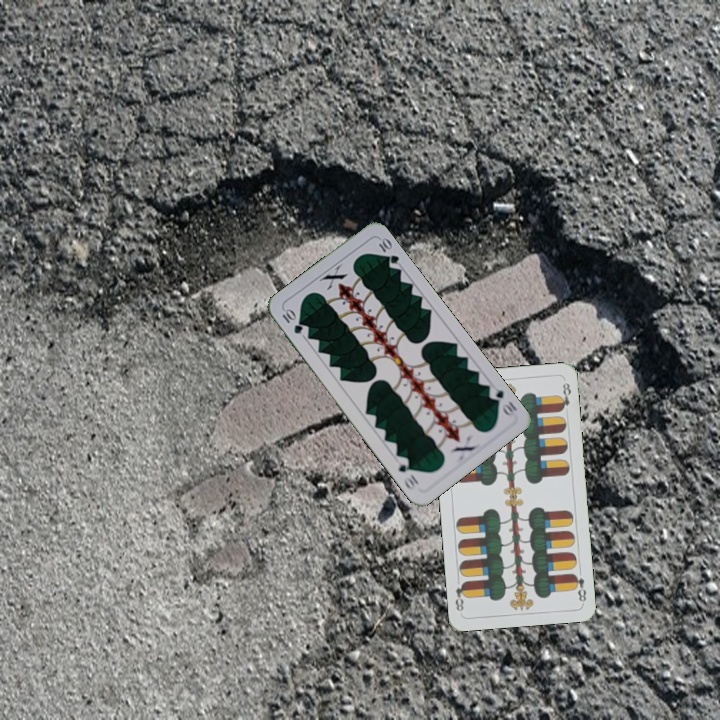E8: (569, 570, 589, 604)
G10: (484, 382, 520, 420), (278, 305, 305, 337)
